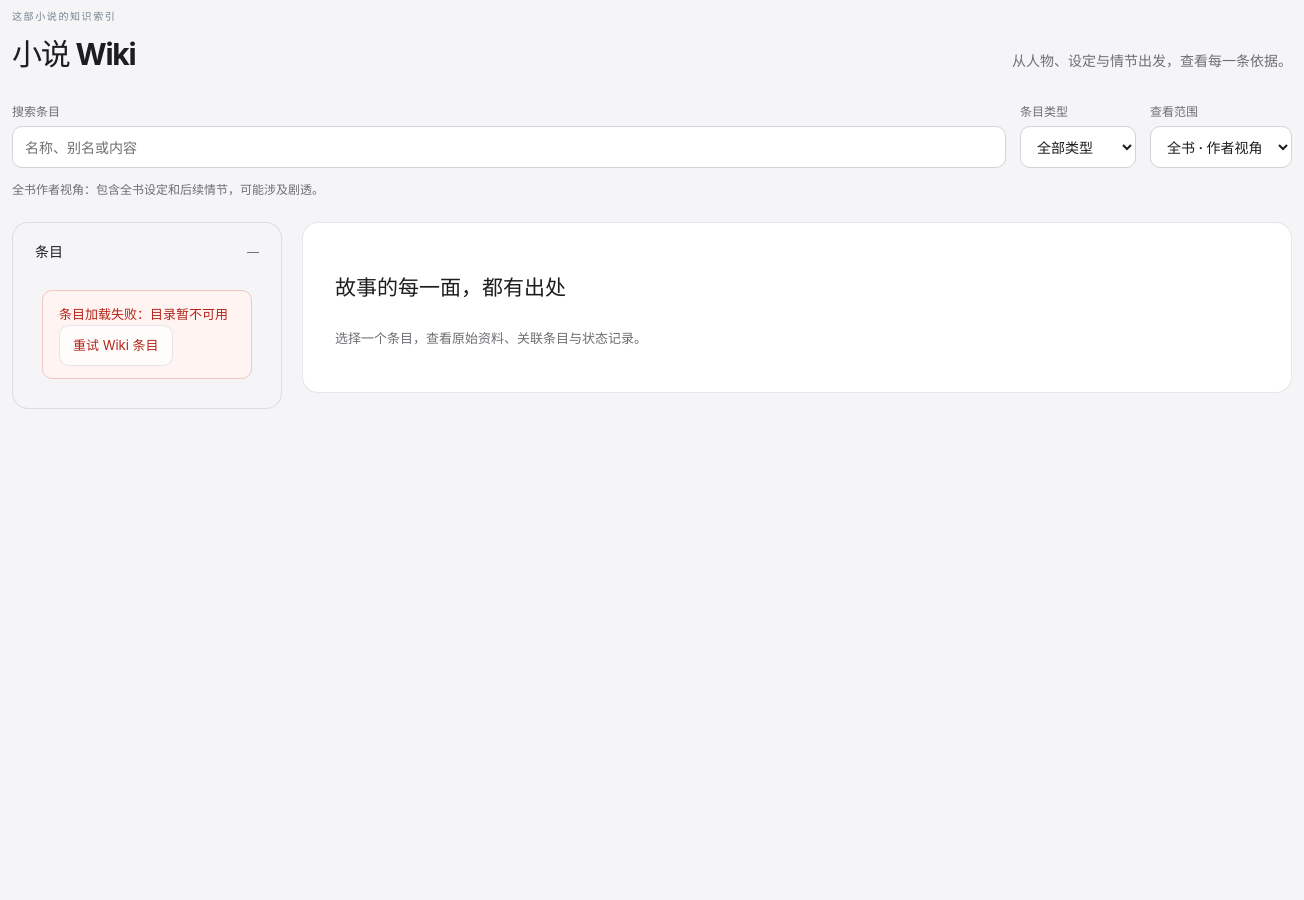
Scenario: shows independent retry controls for list and detail failures
Expected: the message shows "目录暂不可用", x1=150 y1=306 x2=228 y2=322
Click the button "重试 Wiki 条目": click(116, 346) x1=59 y1=326 x2=173 y2=366
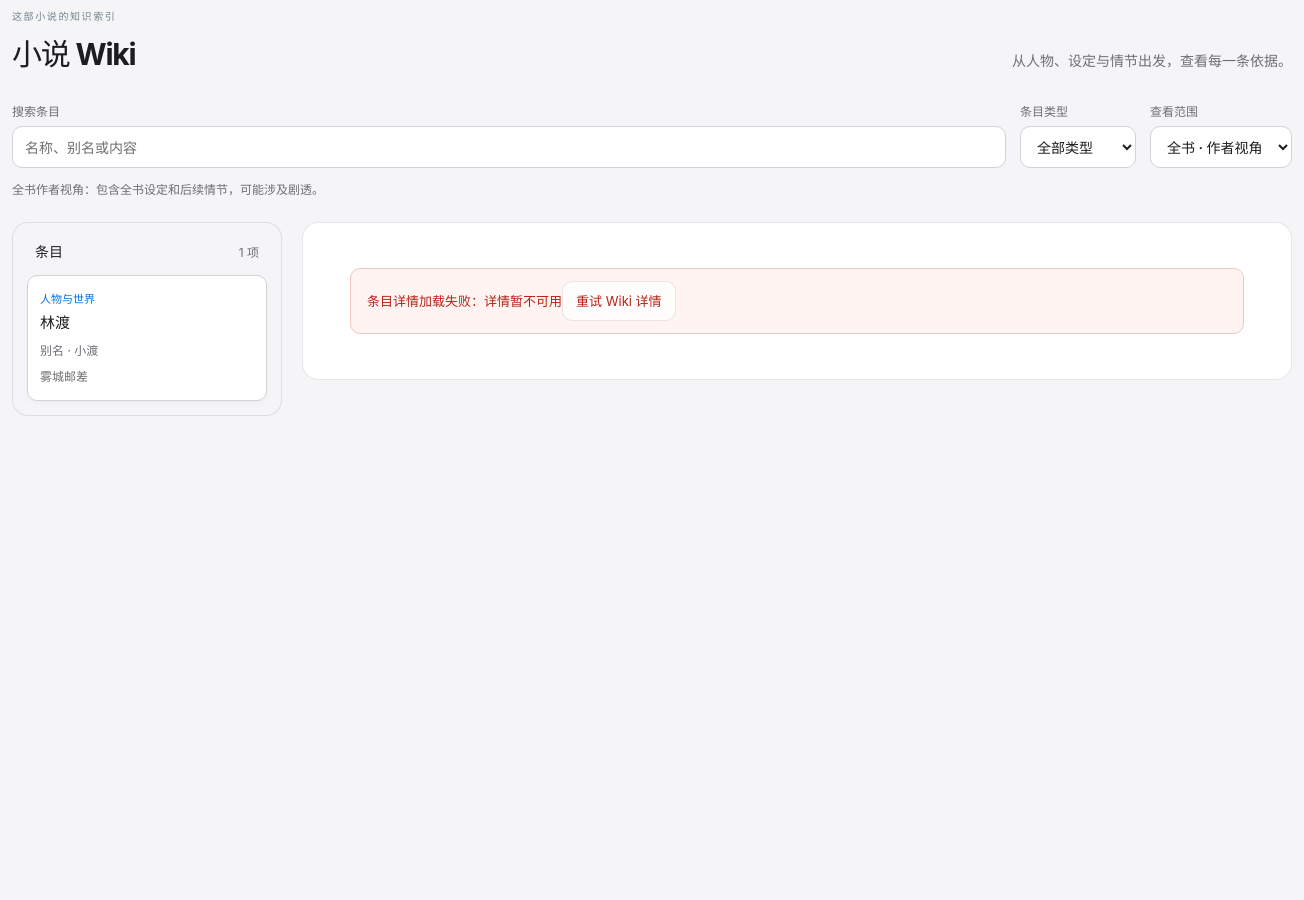
Result: the message shows "详情暂不可用" at x1=484 y1=293 x2=562 y2=309
Click the button "重试 Wiki 详情": click(619, 301) x1=562 y1=281 x2=676 y2=322
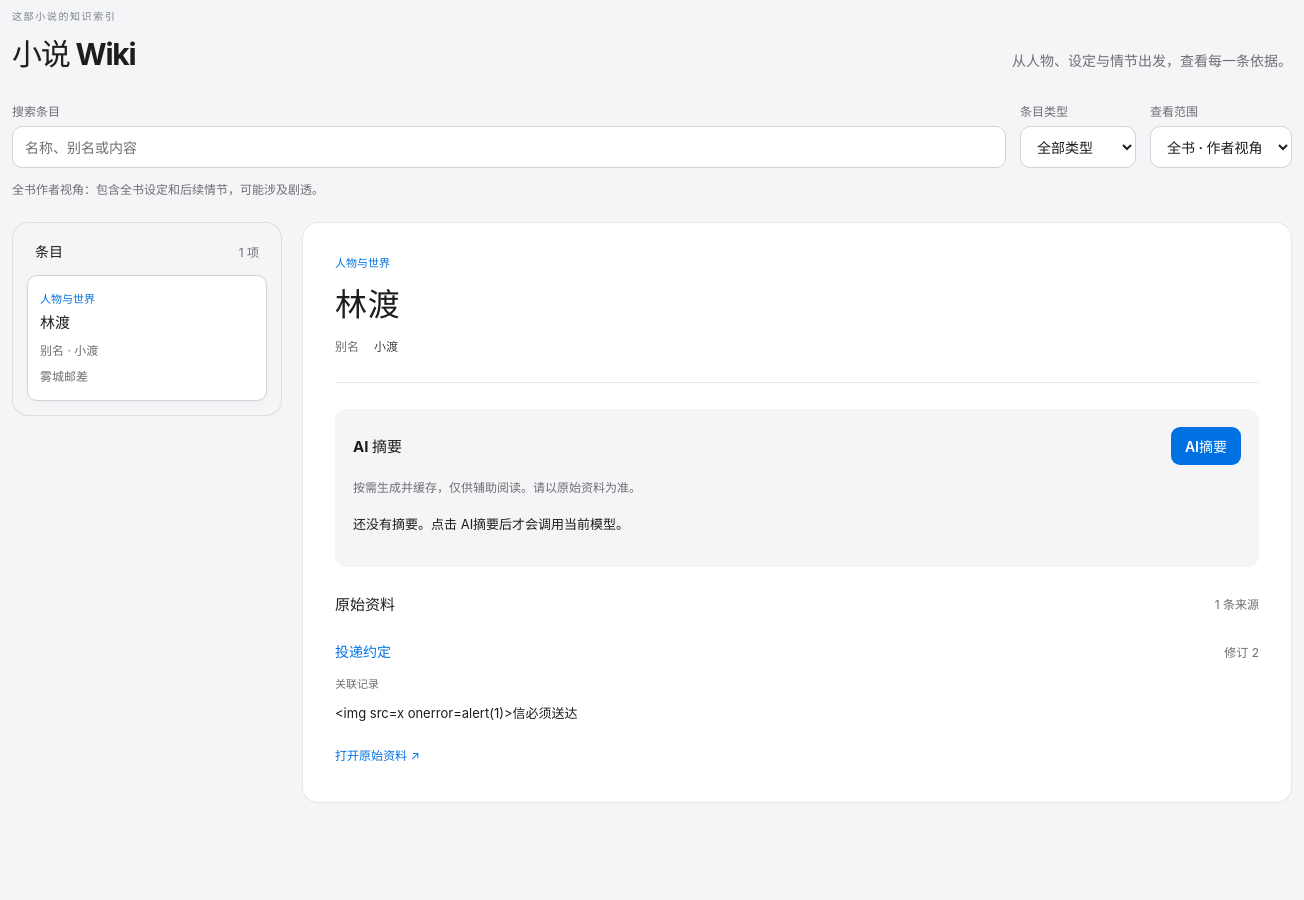
Result: the text "<img src=x onerror=alert(1)>信必须送达" is shown at x1=335 y1=705 x2=578 y2=721
